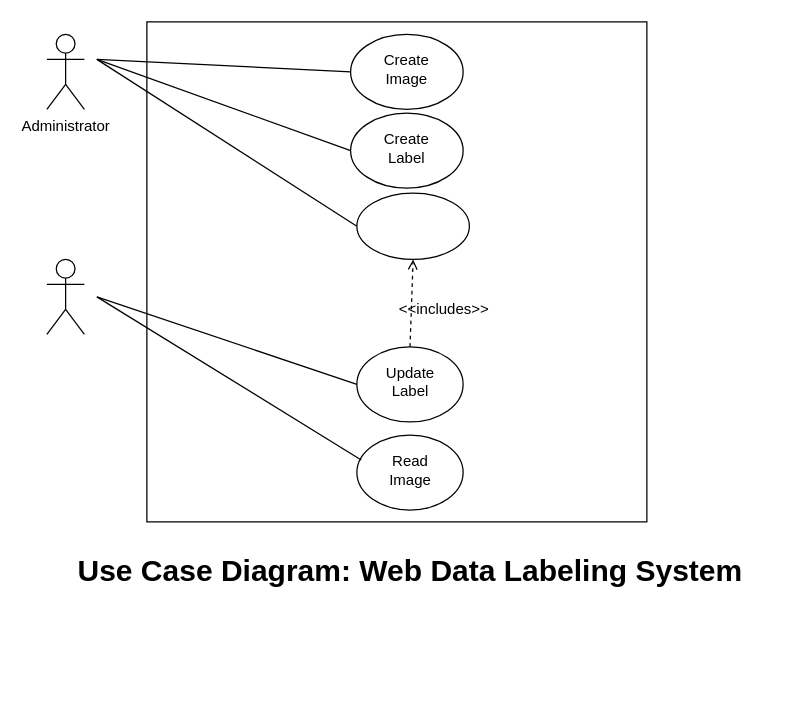
The diagram is 806 pixels wide and 719 high, and some of its shapes have lost their labels. The shapes that lost their labels are listed below. From the top down, each one's box as (x1, y1, x2, y2) in pixels, then its label:
(356, 192, 469, 259): Read Label
(46, 258, 84, 334): User
